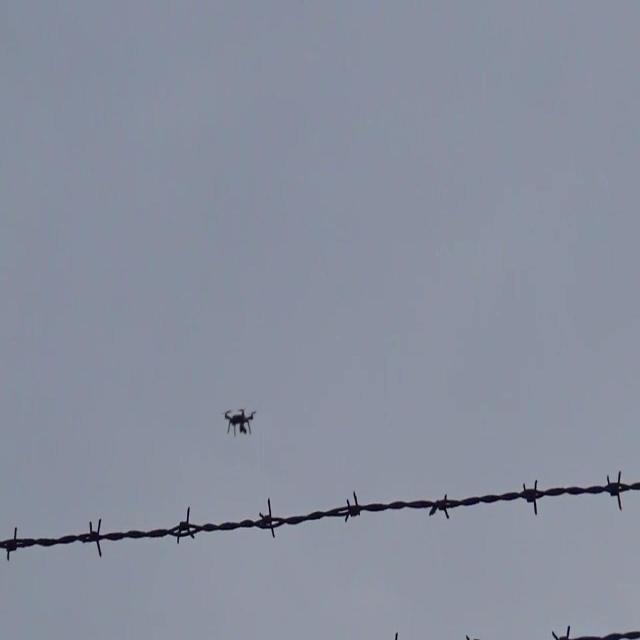UAV: (222, 408, 257, 437)
